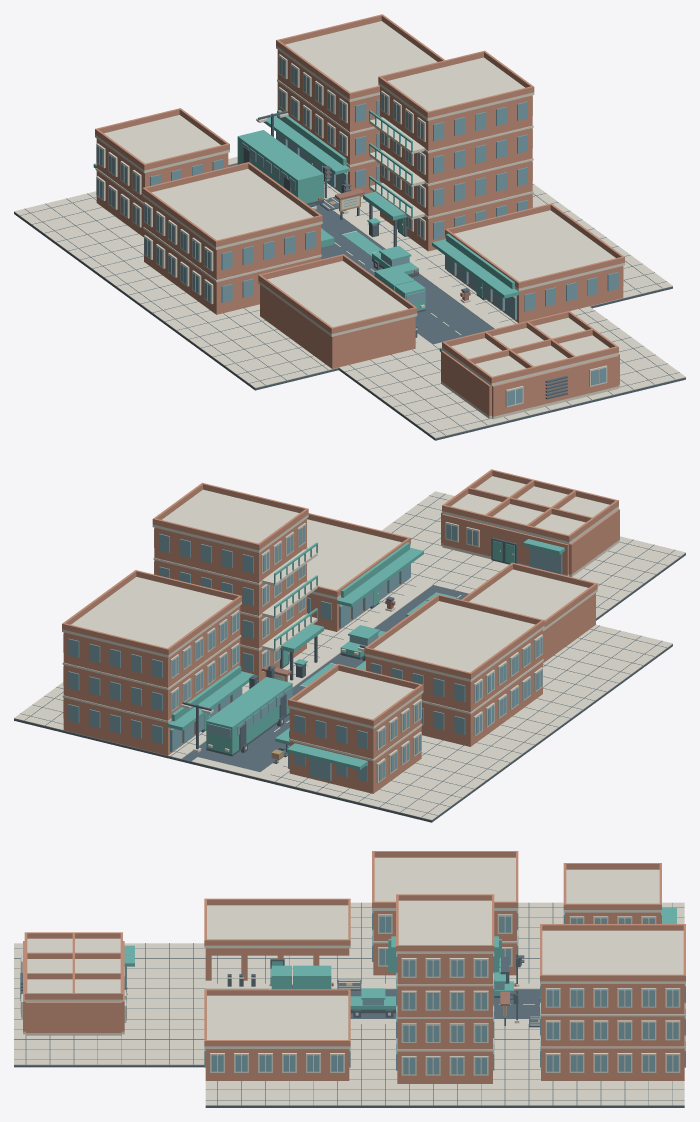
3 renders of one model, top to bottom at view 1: azimuth 30°, elevation 25°; view 2: azimuth 150°, elevation 25°; view 3: azimuth 270°, elevation 25°, orthographic.
Parts seen in each view (by area): view 1: 028-hotel-canopy/hotel-canopy-brick, 027-cinema-marquee/cinema-marquee-concrete, 027-cinema-marquee/cinema-marquee-brick, 028-hotel-canopy/hotel-canopy-concrete, 026-department-store/department-store-concrete, 029-arcade-market/arcade-market-brick, 030-supermarket/supermarket-concrete, 026-department-store/department-store-brick, 029-arcade-market/arcade-market-concrete, 030-supermarket/supermarket-brick, 028-hotel-canopy/hotel-canopy-glass, 025-corner-cafe/corner-cafe-concrete (+41 smaller); view 2: 026-department-store/department-store-brick, 026-department-store/department-store-concrete, 027-cinema-marquee/cinema-marquee-concrete, 028-hotel-canopy/hotel-canopy-brick, 027-cinema-marquee/cinema-marquee-brick, 028-hotel-canopy/hotel-canopy-concrete, 025-corner-cafe/corner-cafe-brick, 026-department-store/department-store-glass, 025-corner-cafe/corner-cafe-concrete, 030-supermarket/supermarket-concrete, 009-sidewalk-straight/sidewalk-straight-concrete, 005-sidewalk-straight/sidewalk-straight-concrete (+51 smaller); view 3: 026-department-store/department-store-brick, 026-department-store/department-store-concrete, 028-hotel-canopy/hotel-canopy-brick, 028-hotel-canopy/hotel-canopy-concrete, 030-supermarket/supermarket-concrete, 027-cinema-marquee/cinema-marquee-concrete, 029-arcade-market/arcade-market-concrete, 030-supermarket/supermarket-brick, 029-arcade-market/arcade-market-brick, 025-corner-cafe/corner-cafe-concrete, 026-department-store/department-store-glass, 028-hotel-canopy/hotel-canopy-glass (+49 smaller).
Part boxes in pixels (<box>): 028-hotel-canopy/hotel-canopy-brick: <box>378,50,534,251</box>; 027-cinema-marquee/cinema-marquee-concrete: <box>142,169,322,303</box>; 027-cinema-marquee/cinema-marquee-brick: <box>142,162,322,314</box>; 028-hotel-canopy/hotel-canopy-concrete: <box>369,57,534,240</box>; 026-department-store/department-store-concrete: <box>276,21,437,173</box>; 029-arcade-market/arcade-market-brick: <box>258,254,417,368</box>; 030-supermarket/supermarket-concrete: <box>445,210,624,296</box>; 026-department-store/department-store-brick: <box>276,14,444,196</box>; 029-arcade-market/arcade-market-concrete: <box>258,261,417,336</box>; 030-supermarket/supermarket-brick: <box>445,203,624,323</box>; 028-hotel-canopy/hotel-canopy-glass: <box>381,93,527,239</box>; 025-corner-cafe/corner-cafe-concrete: <box>95,115,229,227</box>; 026-department-store/department-store-brick: <box>62,570,241,755</box>; 026-department-store/department-store-concrete: <box>62,577,241,729</box>; 027-cinema-marquee/cinema-marquee-concrete: <box>364,601,544,736</box>; 028-hotel-canopy/hotel-canopy-brick: <box>152,482,308,683</box>; 027-cinema-marquee/cinema-marquee-brick: <box>364,594,544,746</box>; 028-hotel-canopy/hotel-canopy-concrete: <box>152,489,317,672</box>; 025-corner-cafe/corner-cafe-brick: <box>288,664,423,793</box>; 026-department-store/department-store-glass: <box>68,612,242,751</box>; 025-corner-cafe/corner-cafe-concrete: <box>288,670,423,783</box>; 030-supermarket/supermarket-concrete: <box>307,519,410,605</box>; 009-sidewalk-straight/sidewalk-straight-concrete: <box>548,624,672,678</box>; 005-sidewalk-straight/sidewalk-straight-concrete: <box>348,767,479,820</box>; 026-department-store/department-store-brick: <box>540,924,685,1080</box>; 026-department-store/department-store-concrete: <box>540,930,685,1072</box>; 028-hotel-canopy/hotel-canopy-brick: <box>396,894,494,1083</box>; 028-hotel-canopy/hotel-canopy-concrete: <box>396,900,494,1075</box>; 030-supermarket/supermarket-concrete: <box>204,995,350,1072</box>; 027-cinema-marquee/cinema-marquee-concrete: <box>372,857,518,966</box>; 029-arcade-market/arcade-market-concrete: <box>204,905,350,948</box>; 030-supermarket/supermarket-brick: <box>204,989,350,1080</box>; 029-arcade-market/arcade-market-brick: <box>204,898,350,980</box>; 025-corner-cafe/corner-cafe-concrete: <box>563,869,661,923</box>; 026-department-store/department-store-glass: <box>540,984,685,1071</box>; 028-hotel-canopy/hotel-canopy-glass: <box>396,954,494,1074</box>.
Size of the model in its own units: 40 by 13 by 56.1.
